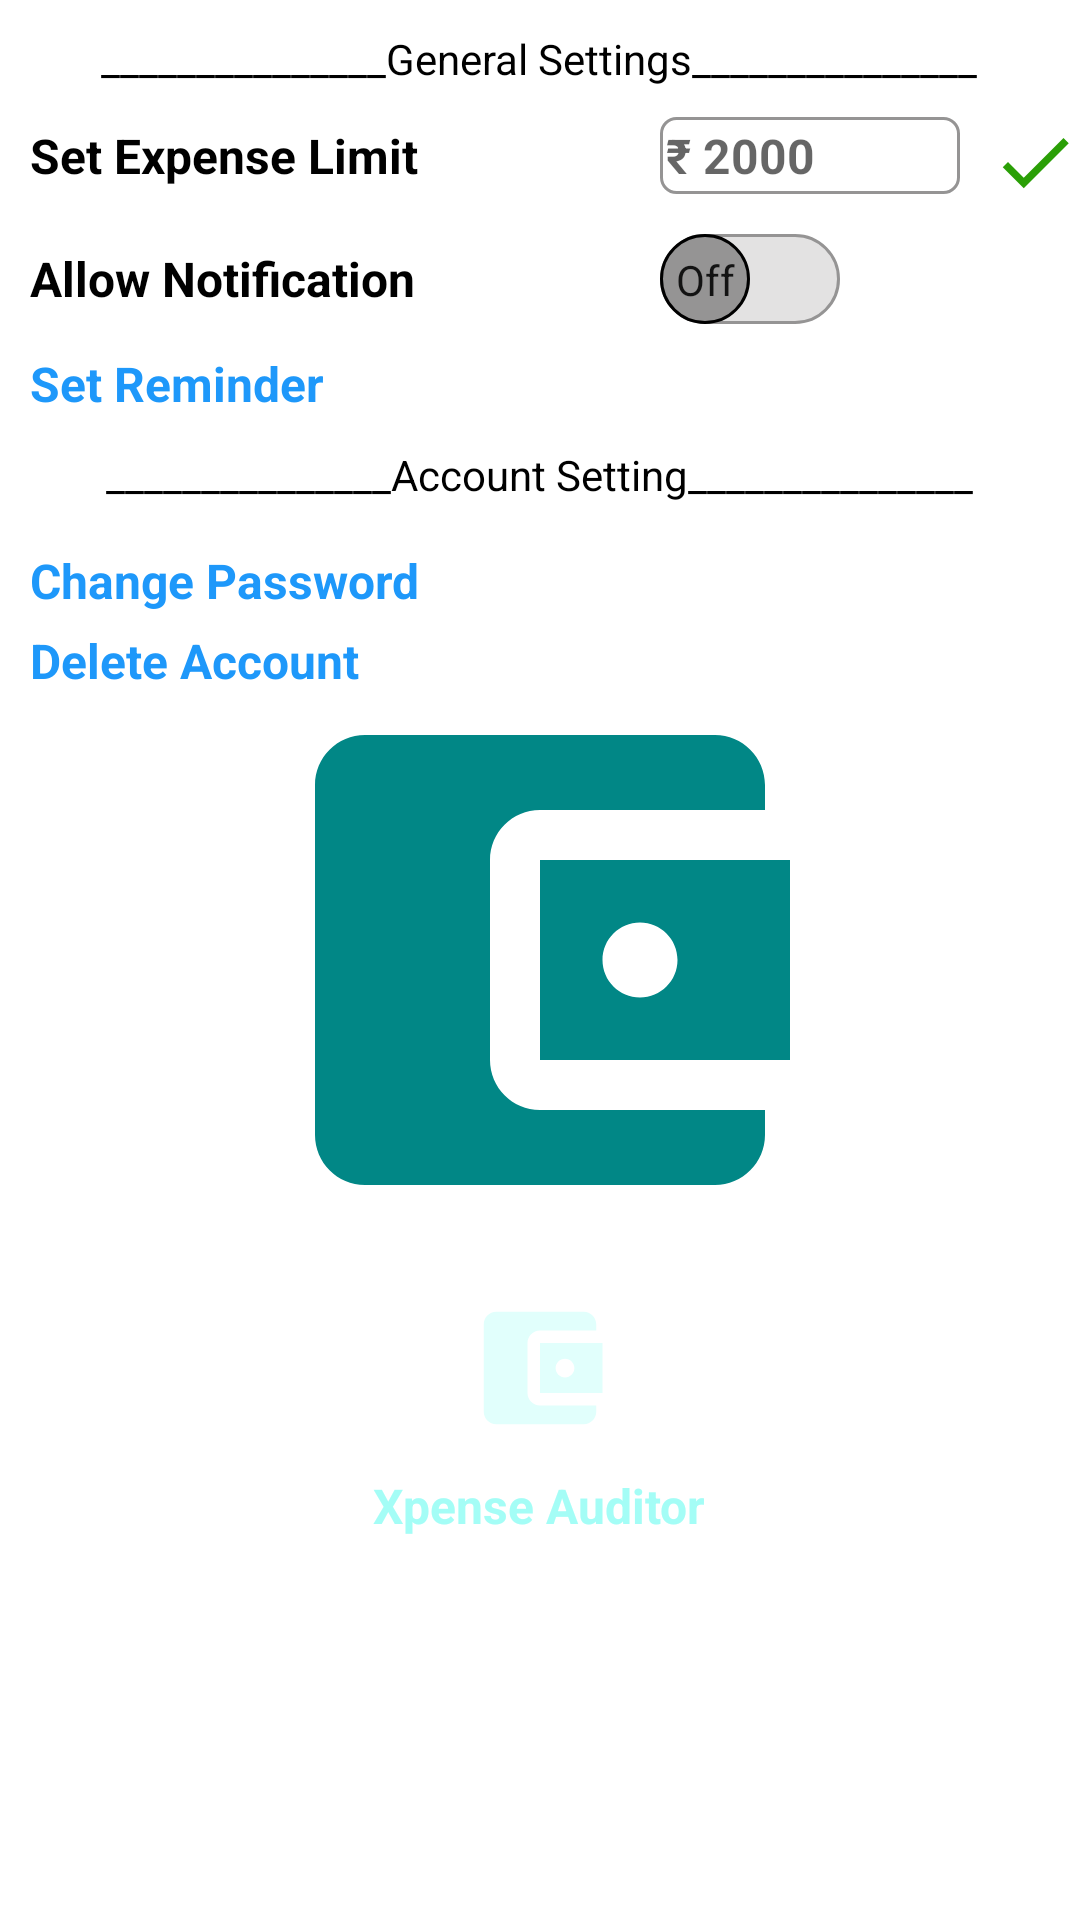

Screen size 1080px x 1920px. Icon name, then its box in pixels as (x1, y1, x2, y2):
done: (1003, 138, 1069, 188)
